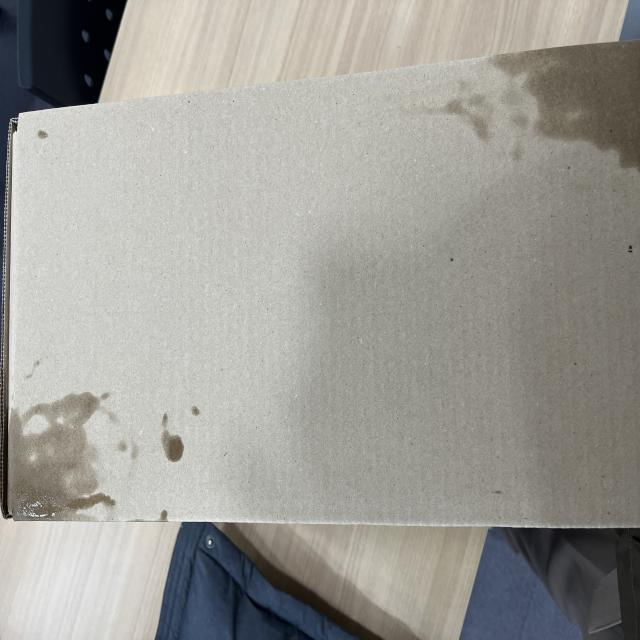wet: (487, 46, 640, 172), (12, 394, 120, 513)
